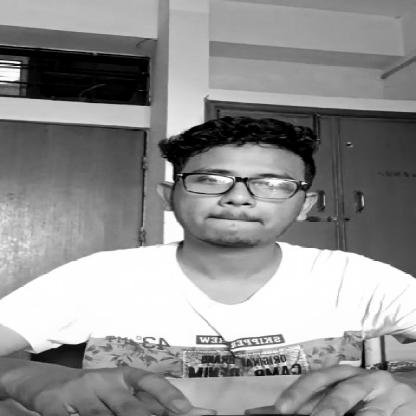Normal: (165, 106, 329, 250)
